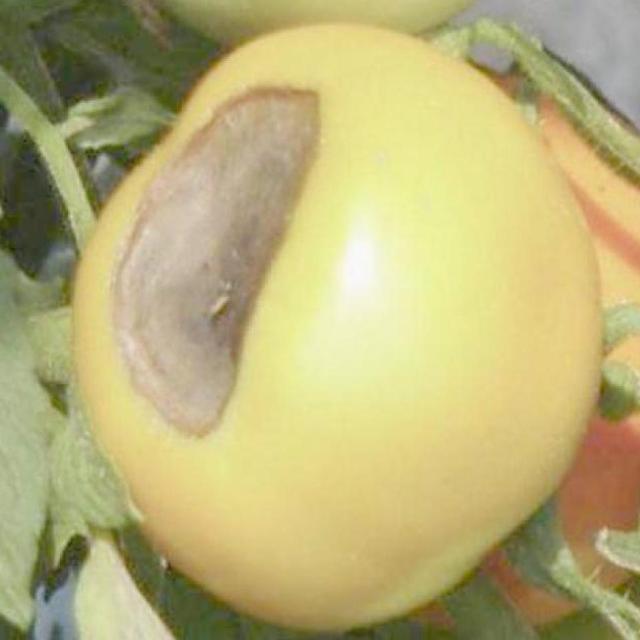Blossom End Rot Fruit: (66, 52, 217, 292)
